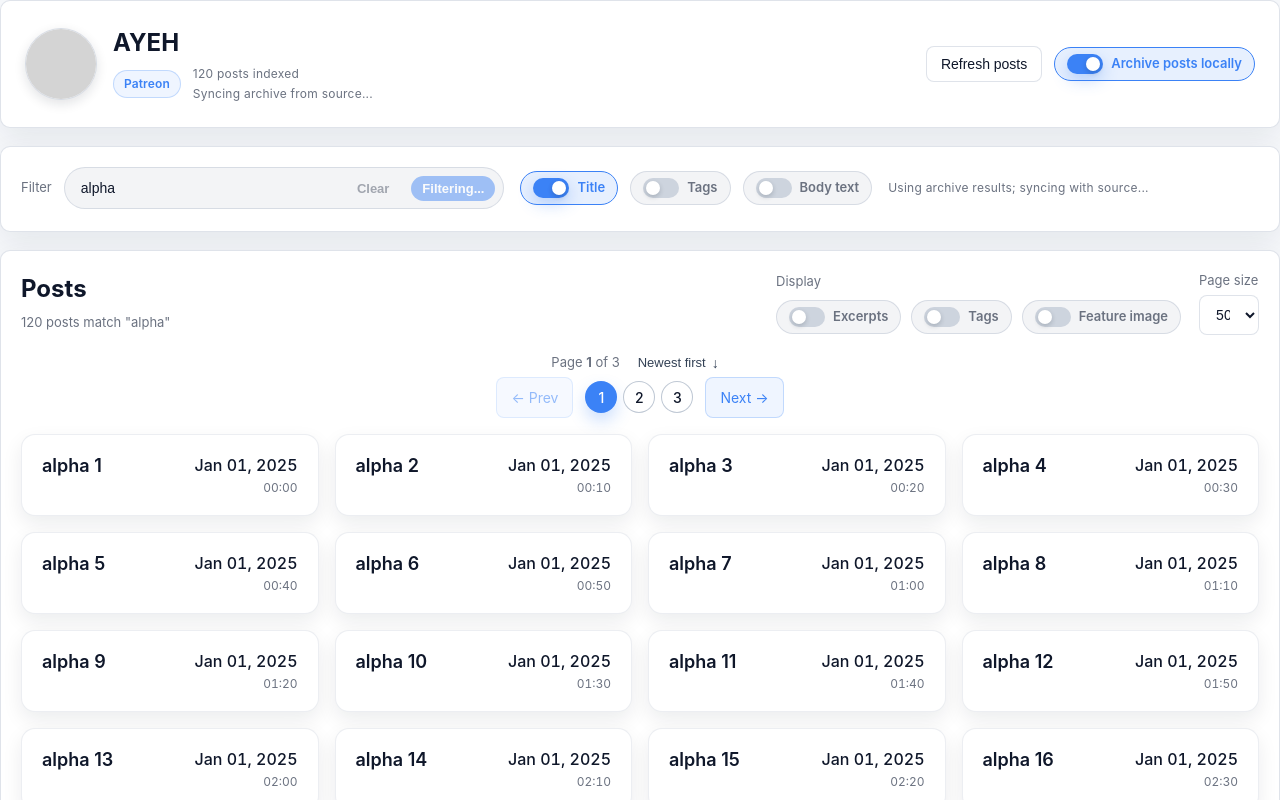
it: CreatorPage search behavior › paginates deterministic archive filter results and keeps page stable on source failure
This screenshot has width=1280, height=800.
Expected: the text "alpha 1" is shown, left=42, top=454, right=102, bottom=476
Expected: the text "alpha 51" is not shown
Click the link "Next →" at [744, 397], box left=705, top=376, right=784, bottom=418
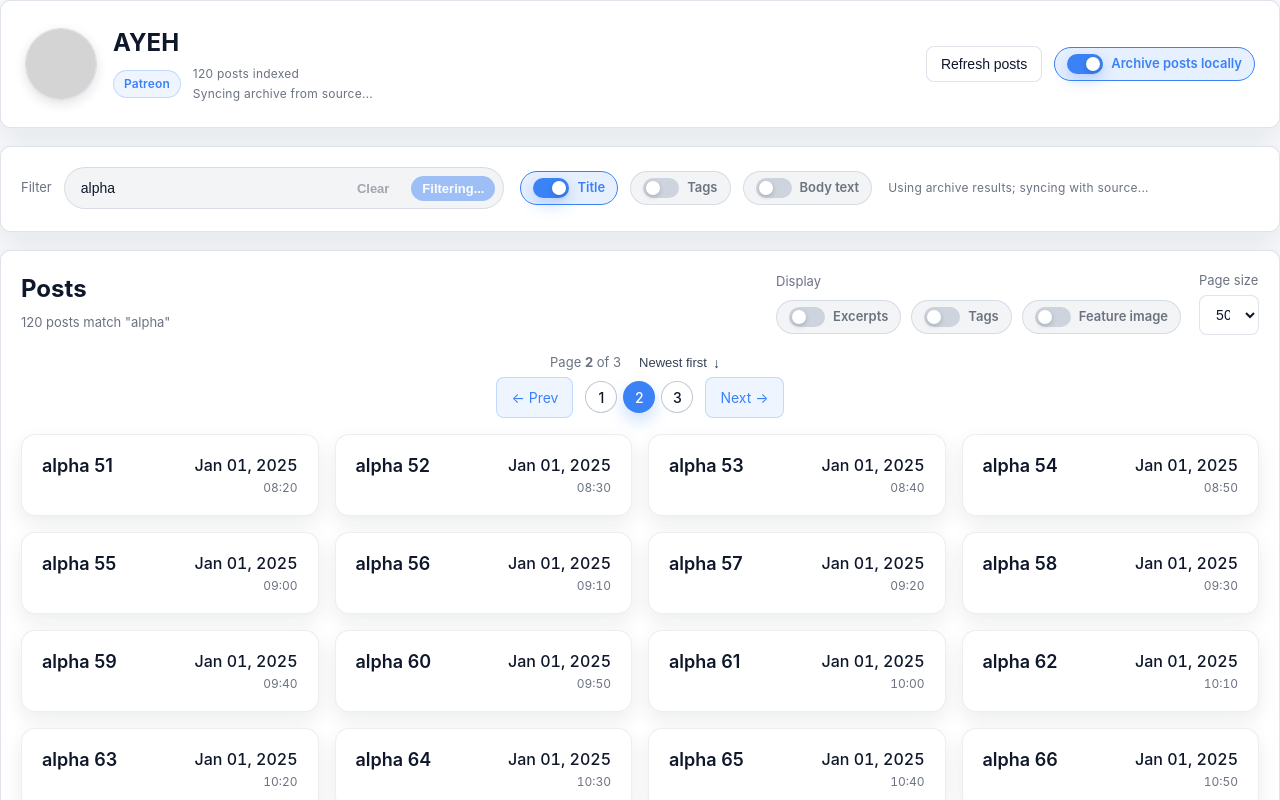
Expected: the text "alpha 1" is not shown
Now the text "alpha 51" is shown, box left=42, top=454, right=113, bottom=476
Click the link "Next →" at [744, 397], box left=705, top=376, right=784, bottom=418
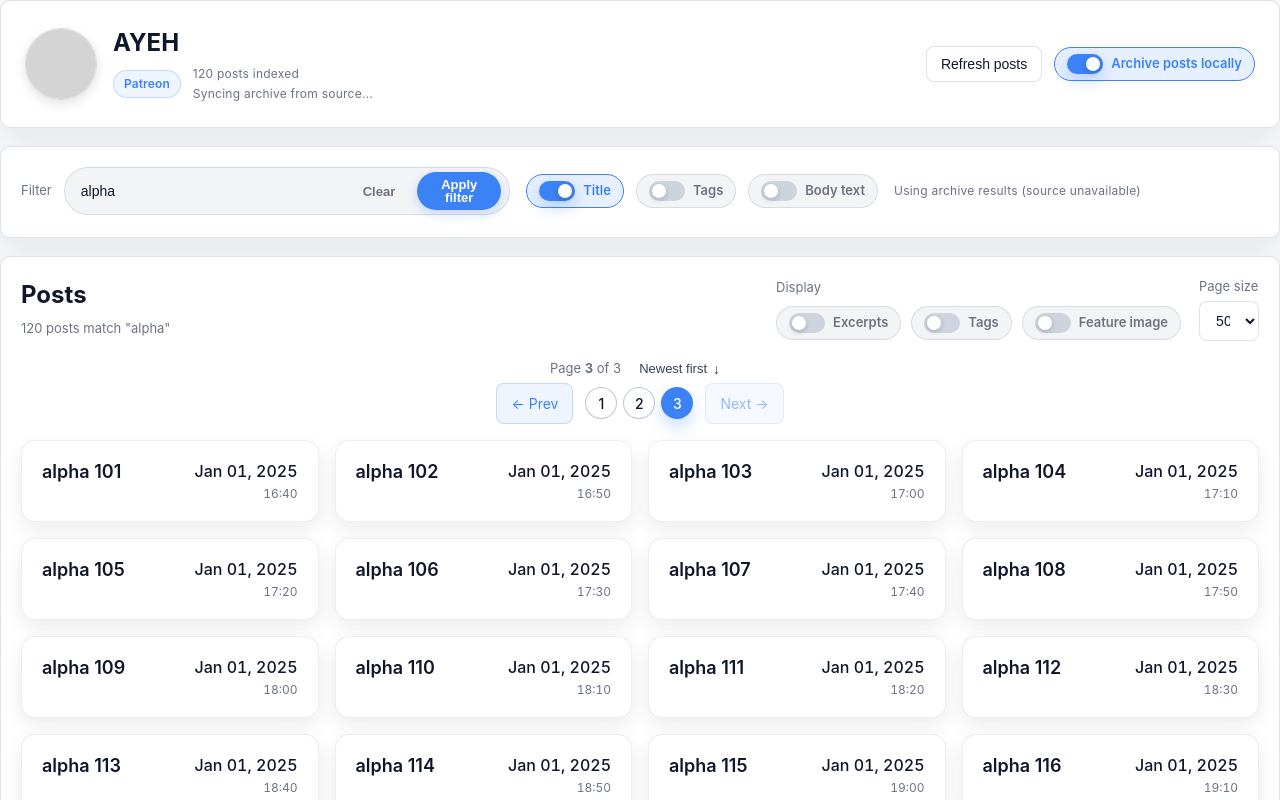
Now the text "Using archive results (source unavailable)" is shown, box left=894, top=182, right=1141, bottom=200
Now the text "alpha 101" is shown, box left=42, top=460, right=121, bottom=482
